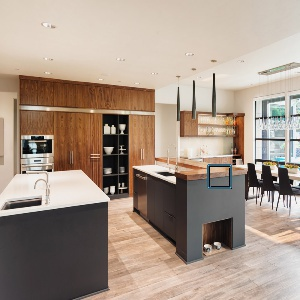square: (205, 162, 234, 191)
